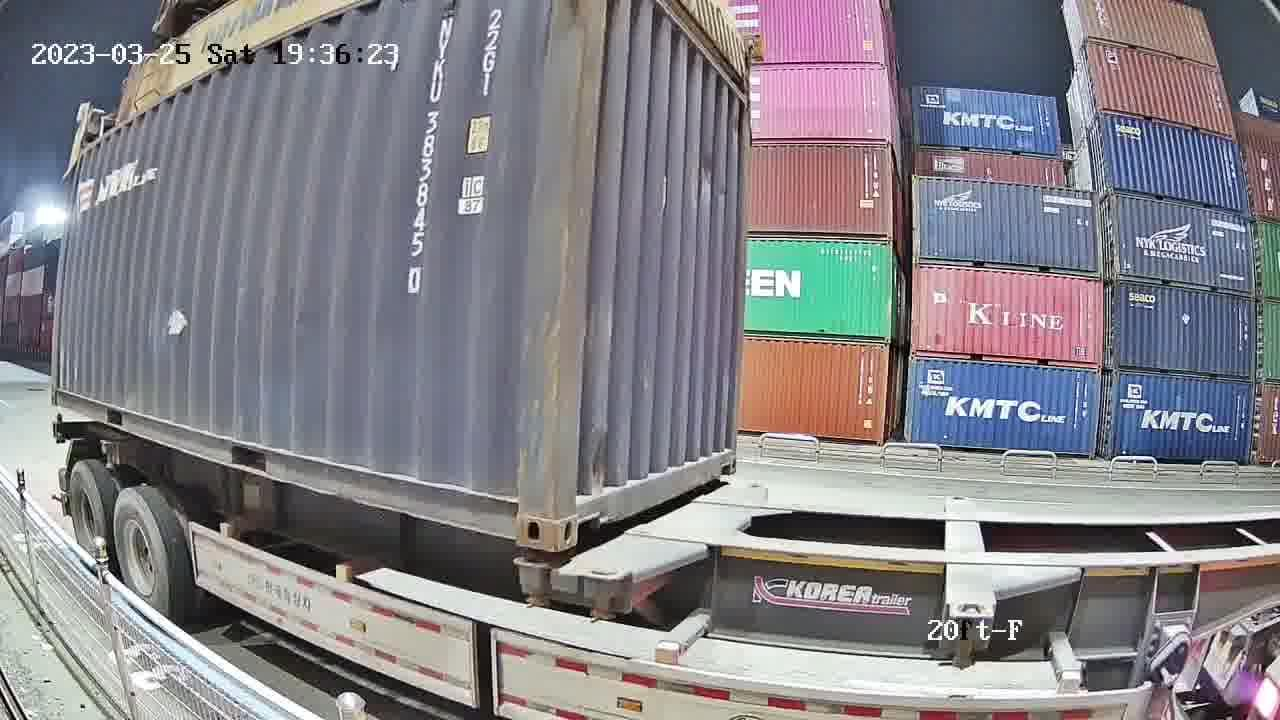Chassis: (584, 484, 765, 579)
Cone: (584, 564, 625, 625), (516, 552, 550, 607)
Hole_L: (552, 466, 601, 553)
Hole_R: (482, 470, 552, 551), (714, 436, 738, 480)
Tire: (113, 493, 168, 617), (68, 466, 108, 572)
